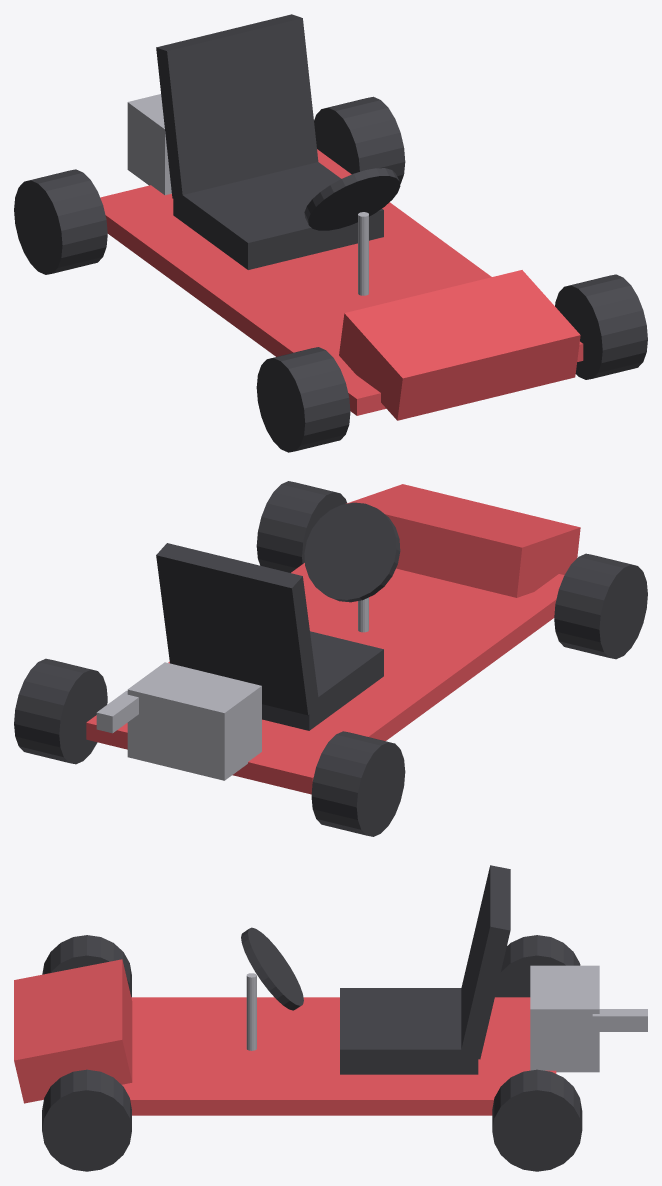
Rendered from kart.glb.
The picture shows the model from 3 angles, top to bottom: view 1: azimuth 30°, elevation 25°; view 2: azimuth 150°, elevation 25°; view 3: azimuth 270°, elevation 25°; orthographic projection. The views are drawn at different scales.
Parts seen in each view (by area): view 1: kart; view 2: kart; view 3: kart.
Boxes of the visible parts, x1,y1,x2,y2 form: kart: [14, 14, 647, 452]; kart: [14, 481, 647, 836]; kart: [14, 865, 647, 1171].
Bounding box in the file's own units: 1.06 × 0.6316 × 1.83.
